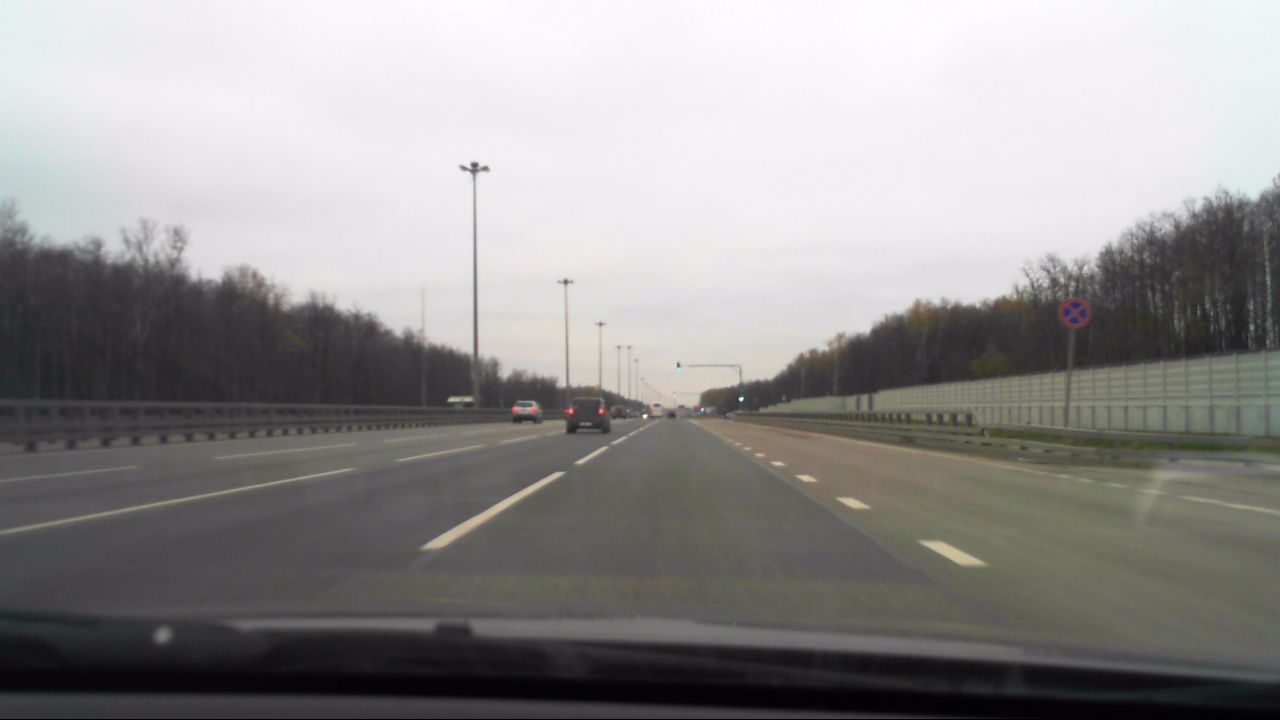No Parking: (1060, 297, 1092, 329)
